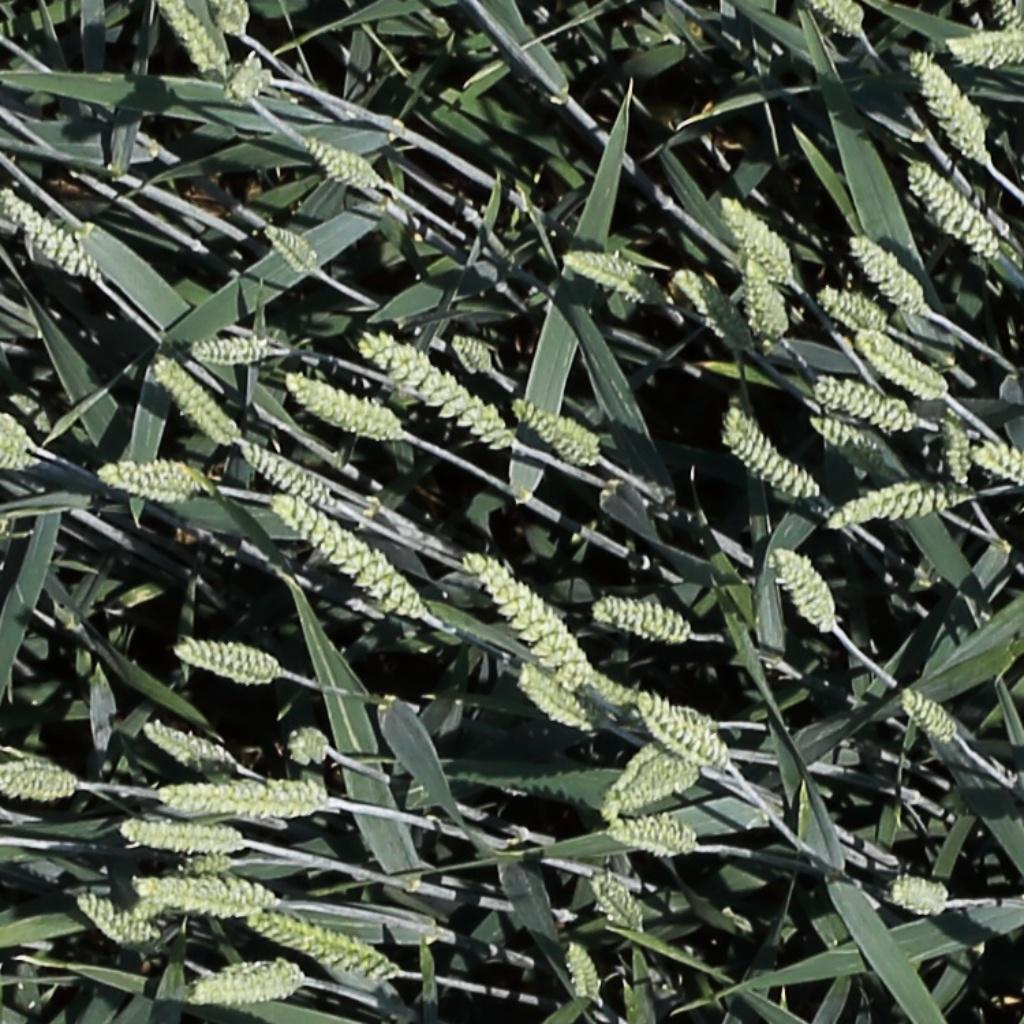0-0: (270, 492, 425, 618), (359, 333, 513, 455), (462, 548, 591, 673), (248, 910, 398, 984), (910, 58, 996, 177), (907, 158, 1002, 258), (0, 184, 101, 278), (550, 652, 686, 720), (727, 412, 823, 502), (136, 859, 289, 913), (152, 356, 240, 445), (829, 478, 987, 527), (849, 222, 928, 318), (718, 189, 797, 281), (673, 264, 757, 350), (285, 374, 401, 436), (158, 778, 338, 817), (240, 439, 334, 510), (868, 334, 958, 402), (774, 544, 841, 630), (513, 397, 600, 462), (158, 0, 229, 77), (816, 378, 918, 430), (643, 711, 731, 770), (518, 664, 592, 731), (563, 249, 660, 297), (185, 959, 296, 1000), (744, 251, 790, 346), (301, 132, 380, 187), (76, 895, 161, 946), (172, 643, 283, 682), (95, 464, 187, 510), (607, 809, 699, 854), (811, 413, 891, 464), (615, 764, 700, 811), (146, 722, 232, 768), (608, 742, 669, 806), (638, 696, 719, 744), (592, 602, 692, 640), (589, 872, 648, 935), (191, 336, 295, 370), (120, 824, 244, 850), (901, 690, 959, 745), (136, 455, 215, 495), (820, 286, 888, 330), (262, 219, 319, 271), (563, 935, 604, 1006), (890, 867, 951, 913), (943, 409, 976, 492), (223, 51, 268, 106), (970, 443, 1024, 486), (0, 770, 77, 798), (509, 774, 611, 795), (450, 330, 495, 374), (286, 726, 333, 767), (948, 40, 1022, 62), (819, 1, 866, 35), (179, 853, 245, 876), (0, 375, 21, 439), (215, 0, 249, 38), (992, 0, 1024, 39), (0, 435, 32, 468)
